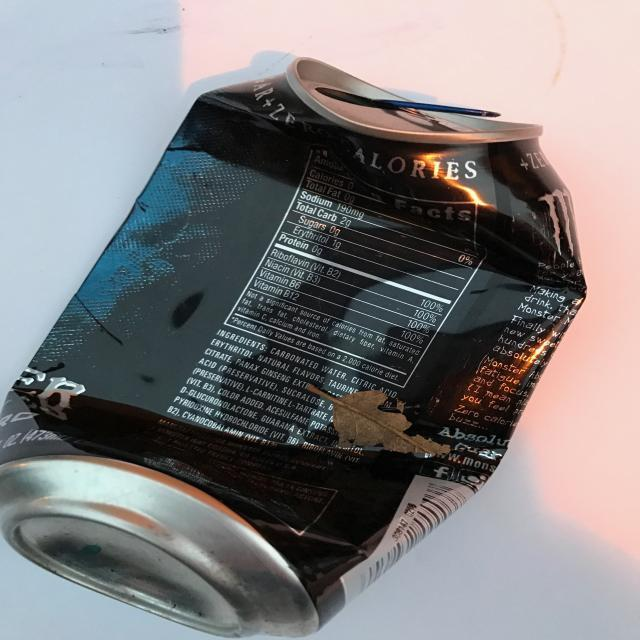metal: (2, 53, 586, 640)
